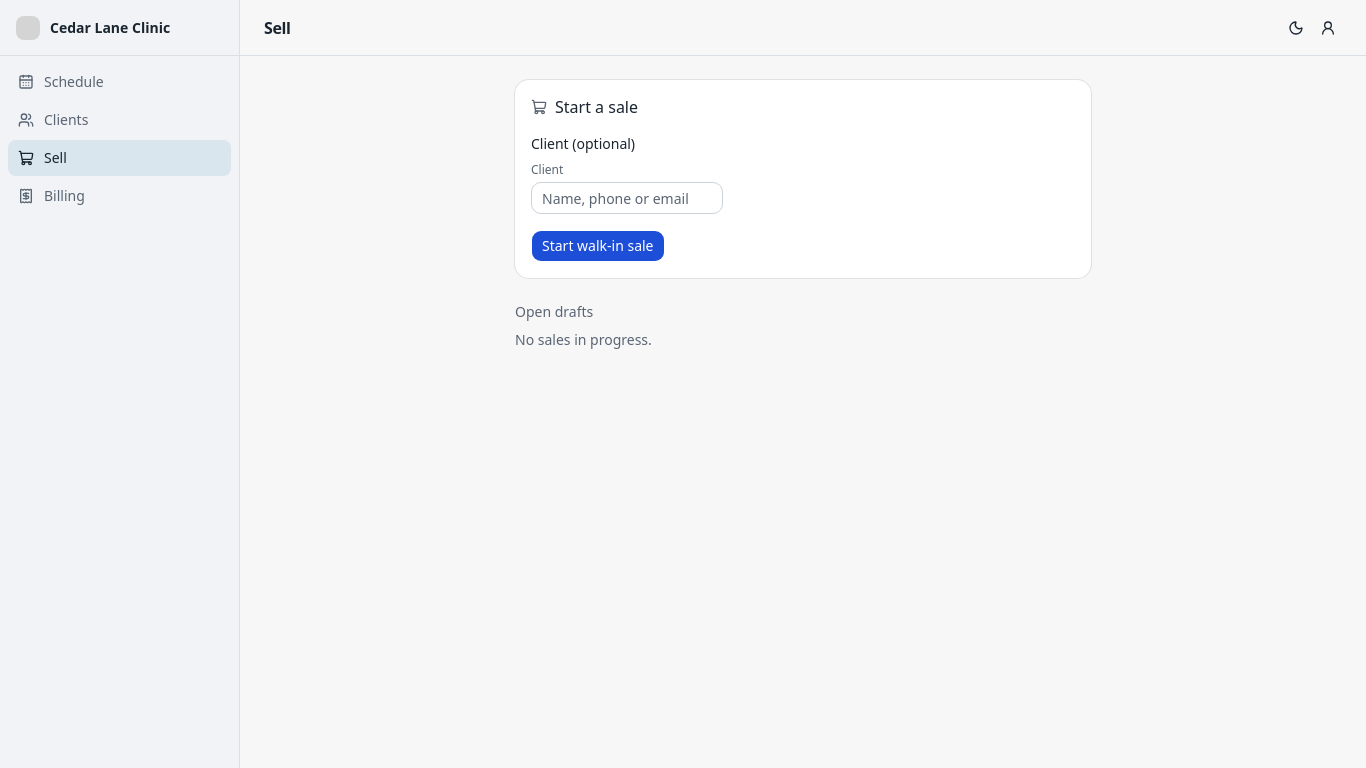
it: a matched product shows price and stock, and adding it lines it up with tax
Click the button "Start walk-in sale" at (598, 246), box [531,230,664,262]
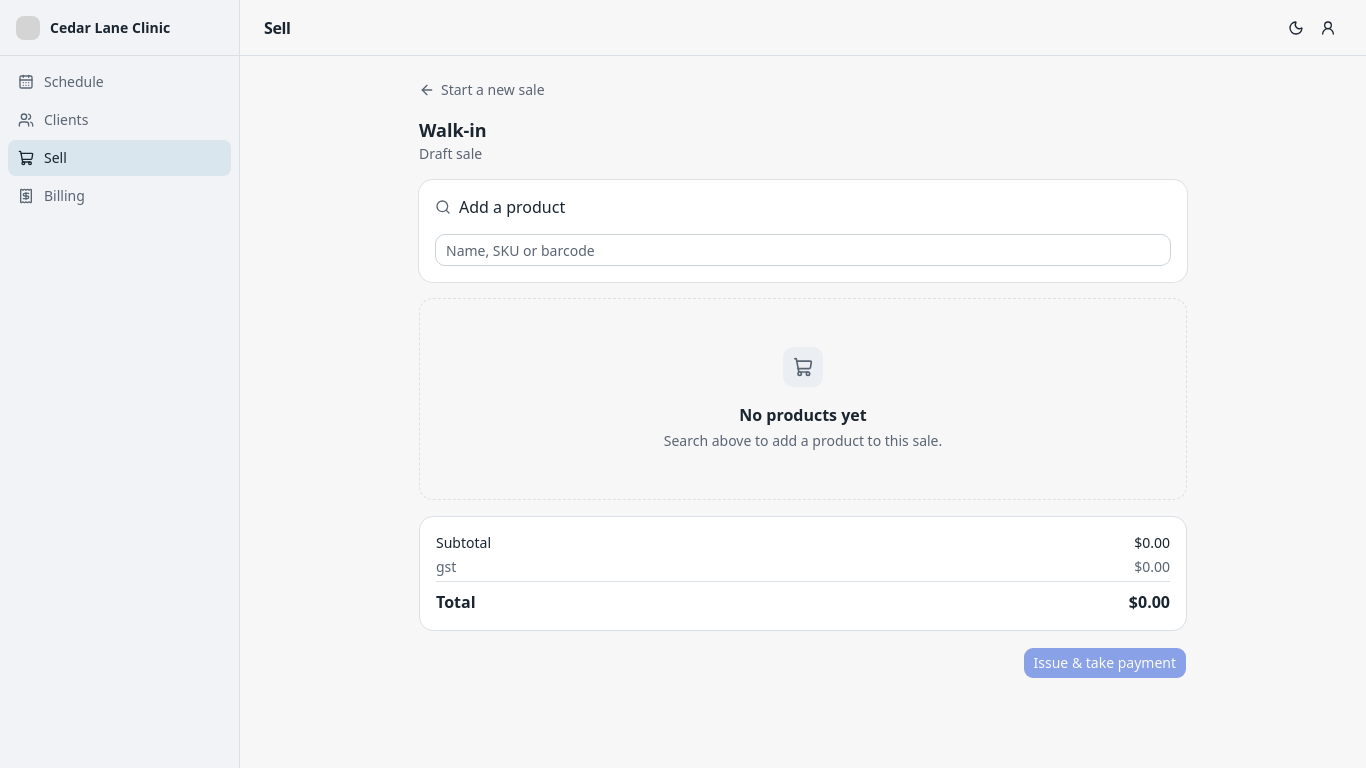
Type "Shampoo" into the field named "Search products" at (803, 250), box [435,234,1171,266]
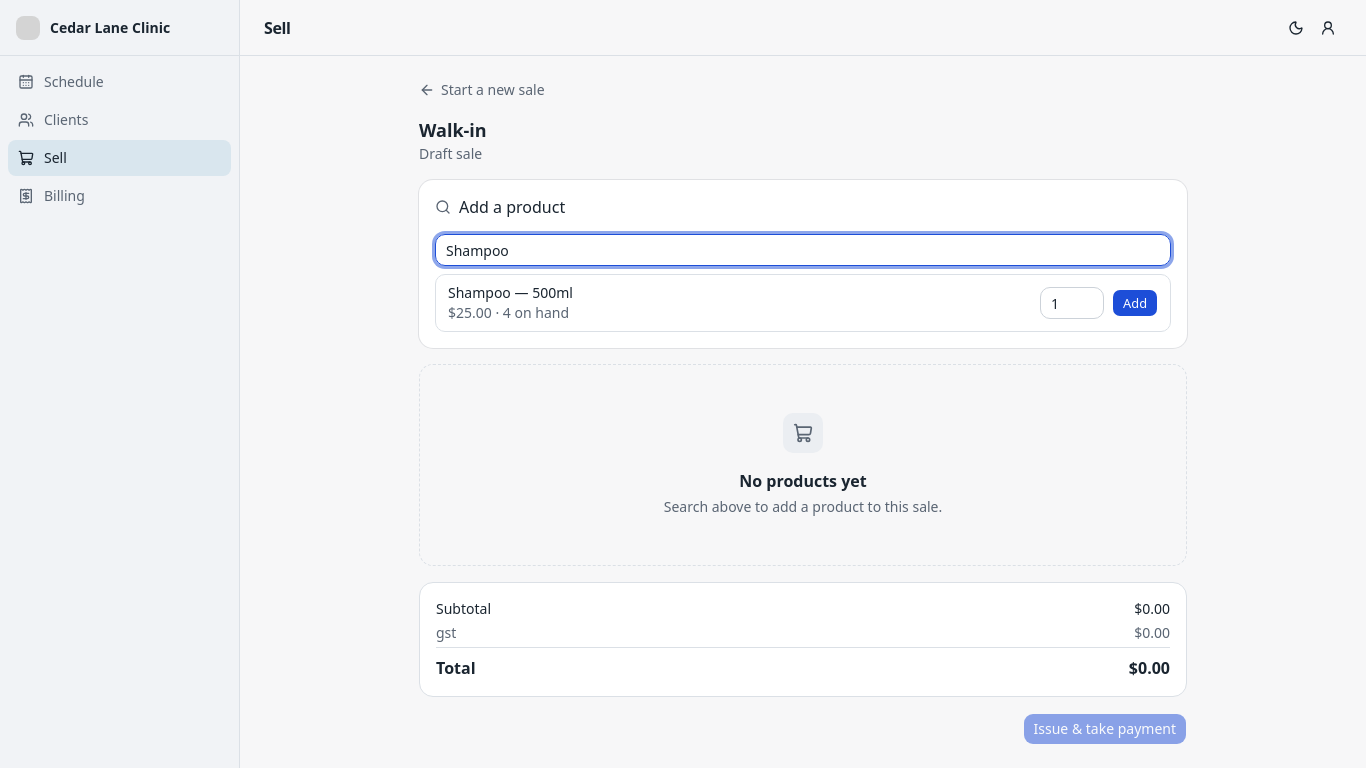
Now the text "Shampoo — 500ml" is shown, box [448,283,573,303]
Now the text "$25.00 · 4 on hand" is shown, box [448,303,573,323]
Click the button "Add" at (1135, 303), box [1112,289,1158,317]
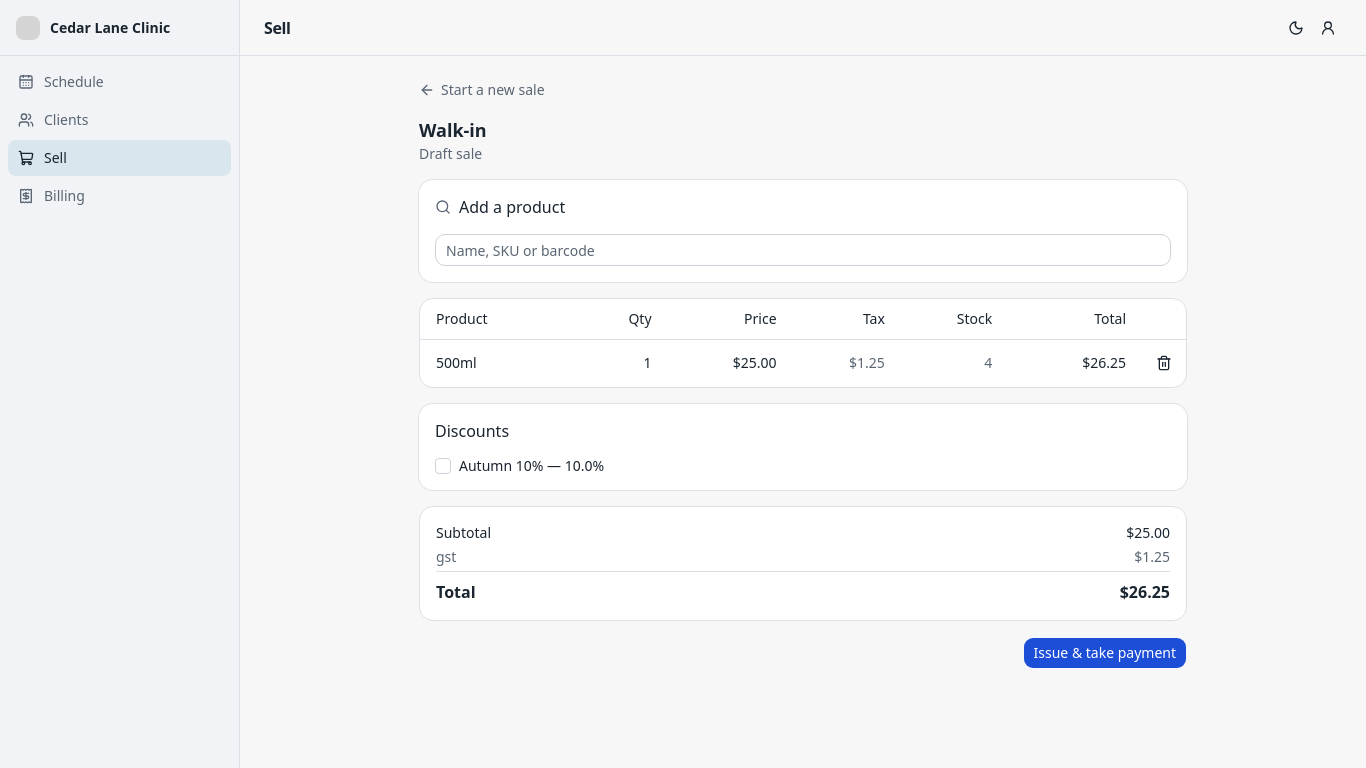
Now the text "4" is shown, box [893,339,1000,387]
Now the text "$25.00" is shown, box [660,339,785,387]
Now the text "$1.25" is shown, box [784,339,893,387]
